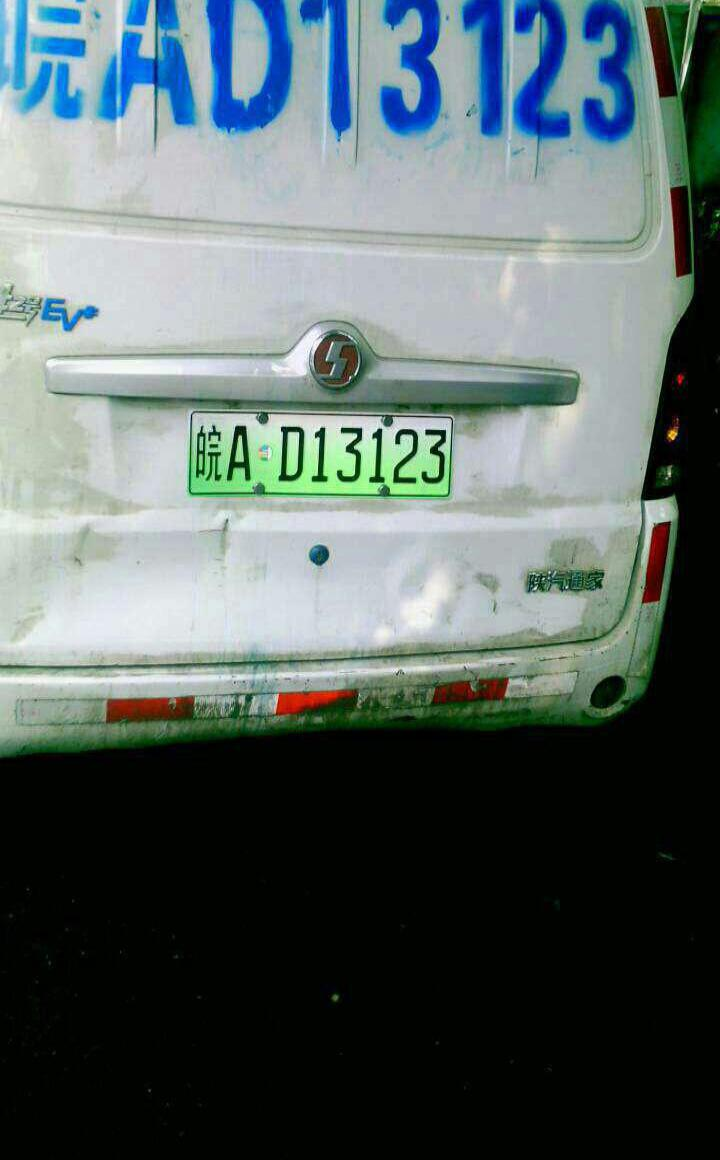car_id: (189, 414, 448, 493)
